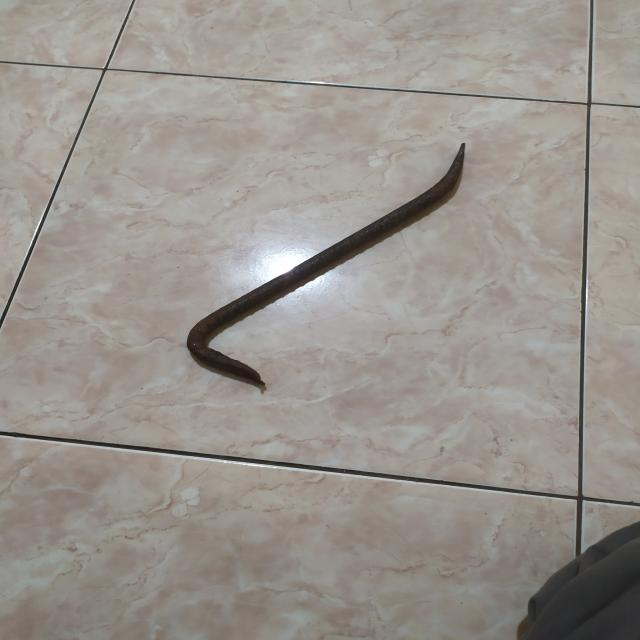Linggis: (183, 142, 475, 390)
